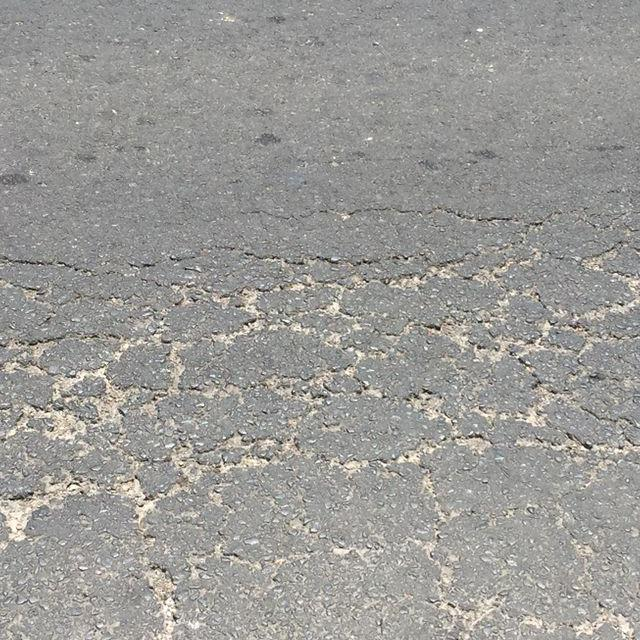retak_memanjang: (0, 132, 640, 640)
